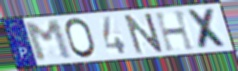4: (103, 15, 129, 57)
H: (153, 9, 197, 54)
M: (23, 19, 76, 64)
N: (122, 11, 166, 56)
O: (63, 17, 98, 60)
X: (185, 7, 232, 51)
